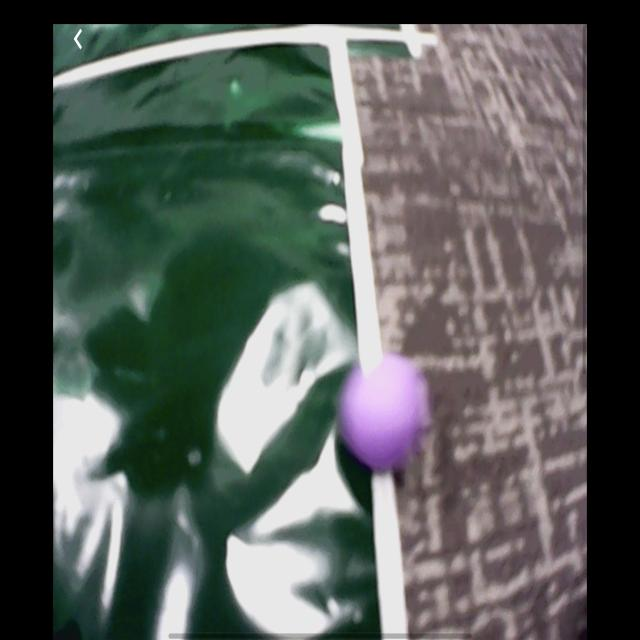ball: (336, 352, 433, 476)
